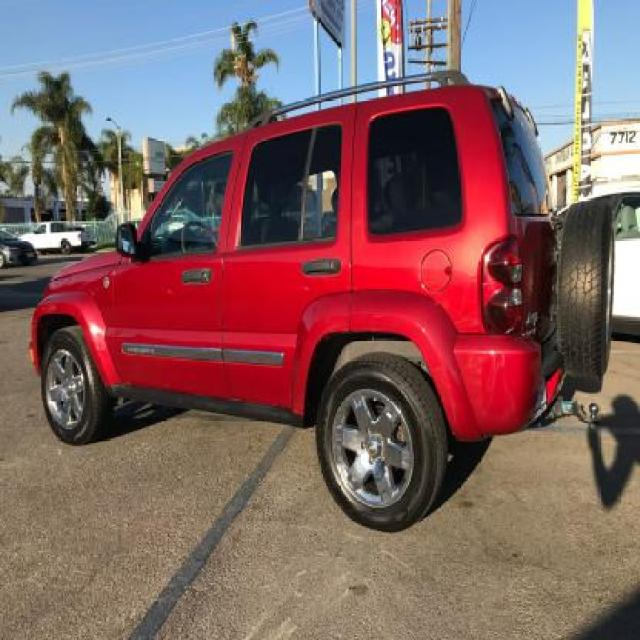Jeep: (27, 60, 616, 531)
